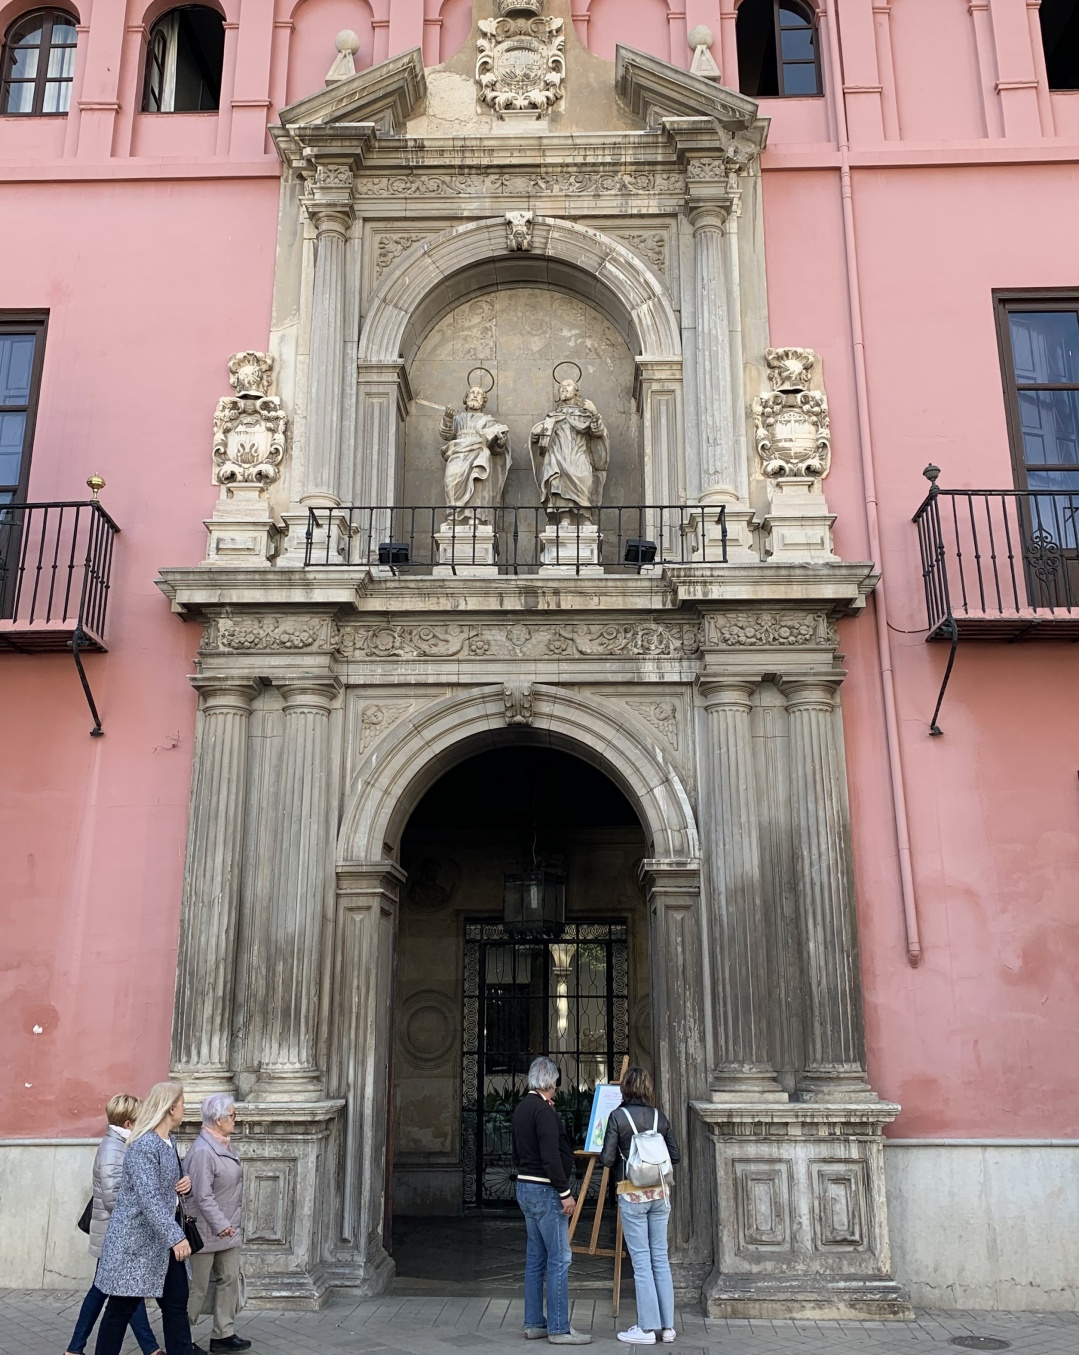arco-medio-punto: (371, 719, 672, 926), (382, 242, 662, 416)
fronton-partido: (273, 43, 756, 155)
